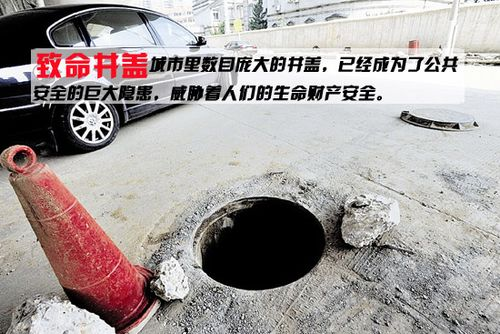lose: (187, 188, 334, 298)
